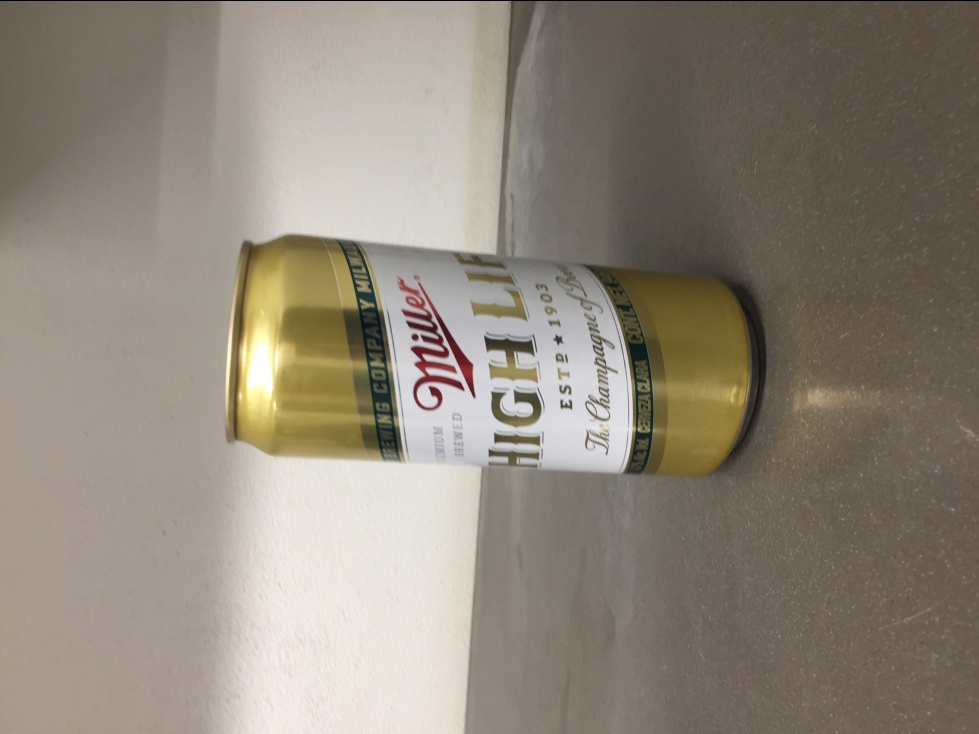miller: (222, 227, 765, 480)
